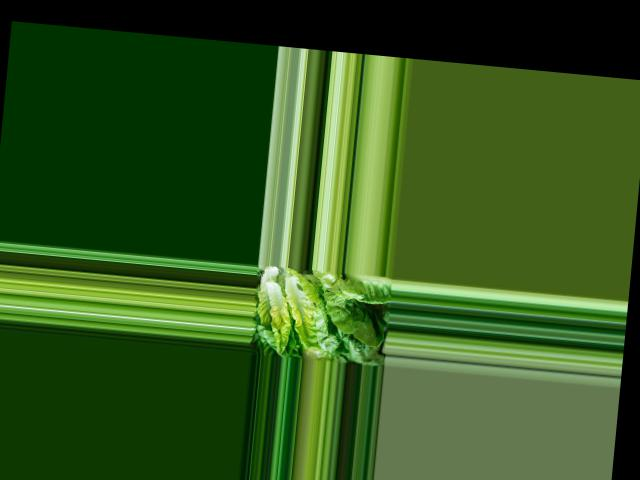lettuce: (252, 263, 347, 356)
